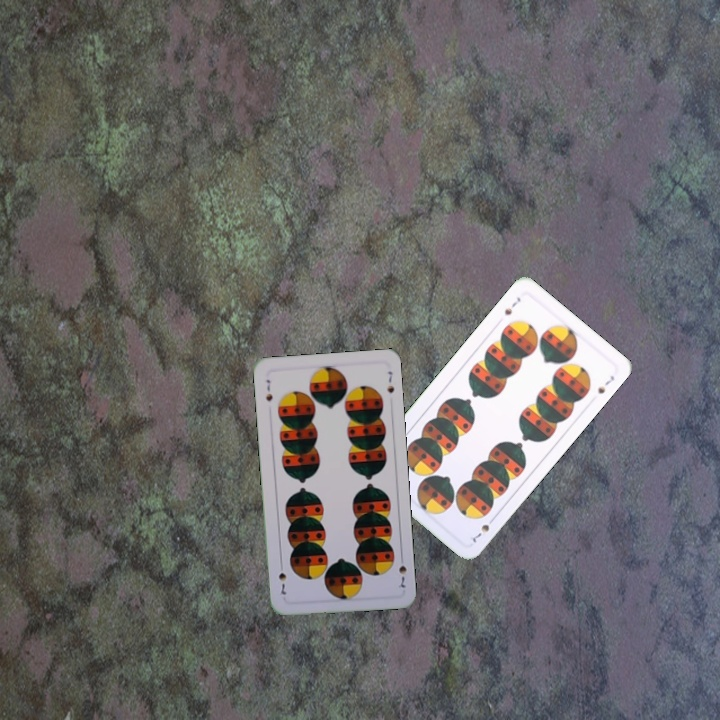S7: (468, 513, 498, 545), (500, 293, 523, 318), (395, 552, 409, 590), (262, 376, 275, 404)
